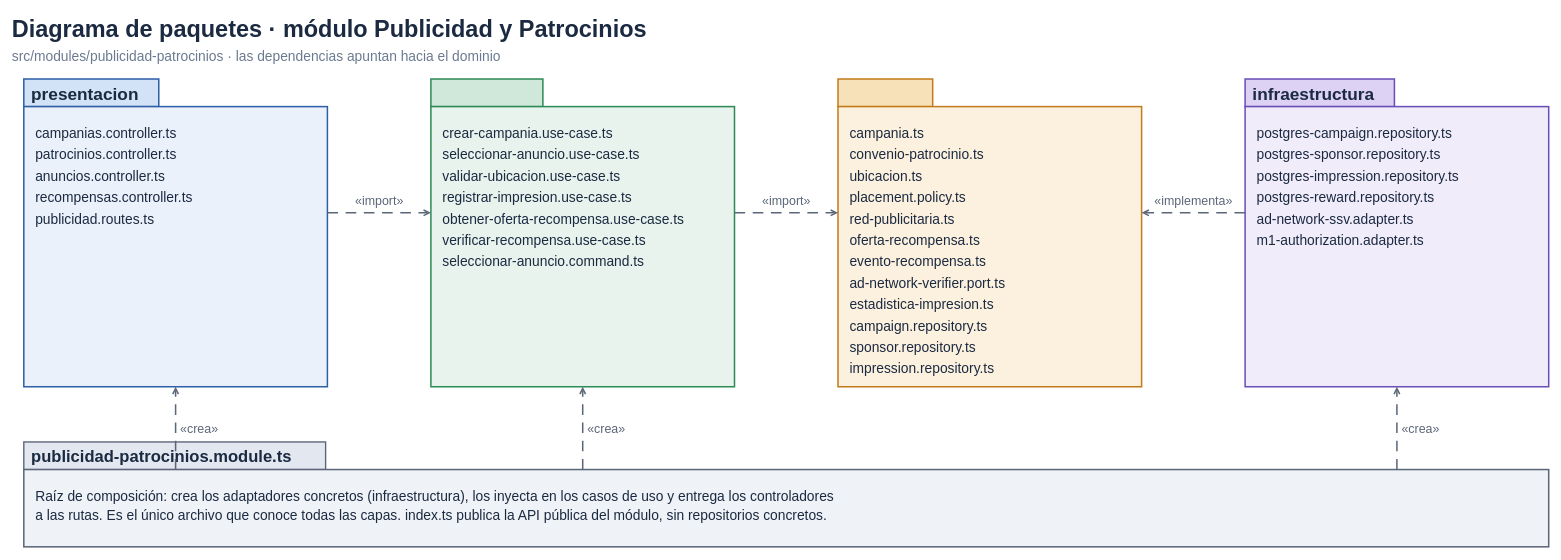
The diagram is 1561 pixels wide and 560 high, and some of its shapes have lost their labels. The centre of each missing label's shape, as x and y in pixels:
aplicacion: the point at 486,92
dominio: the point at 885,92
